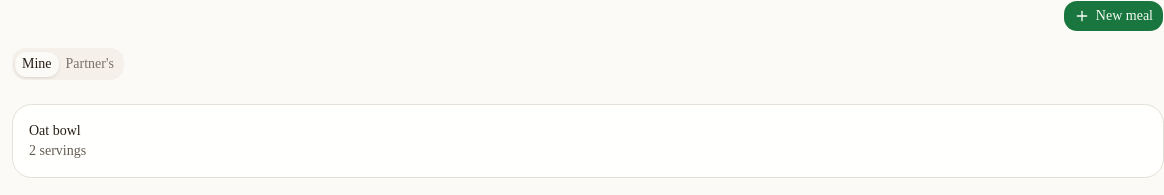
Scenario: MealsPage › drops the partner tab, and shows my meals again, when the partner unlinks while it is open
Click the tab "Partner's" at [90, 64], box [59,52,121,76]
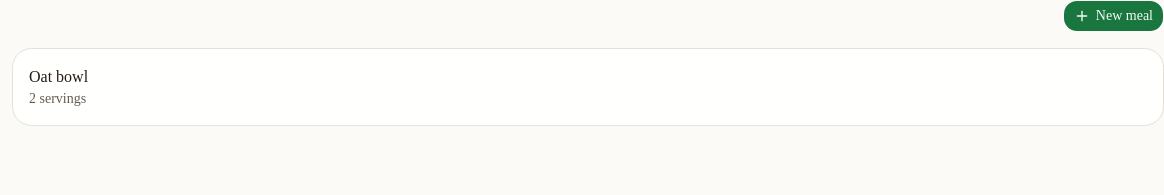
Expected: the link "Oat bowl 2 servings" is shown, [29,68,88,106]
Result: the tab is gone
